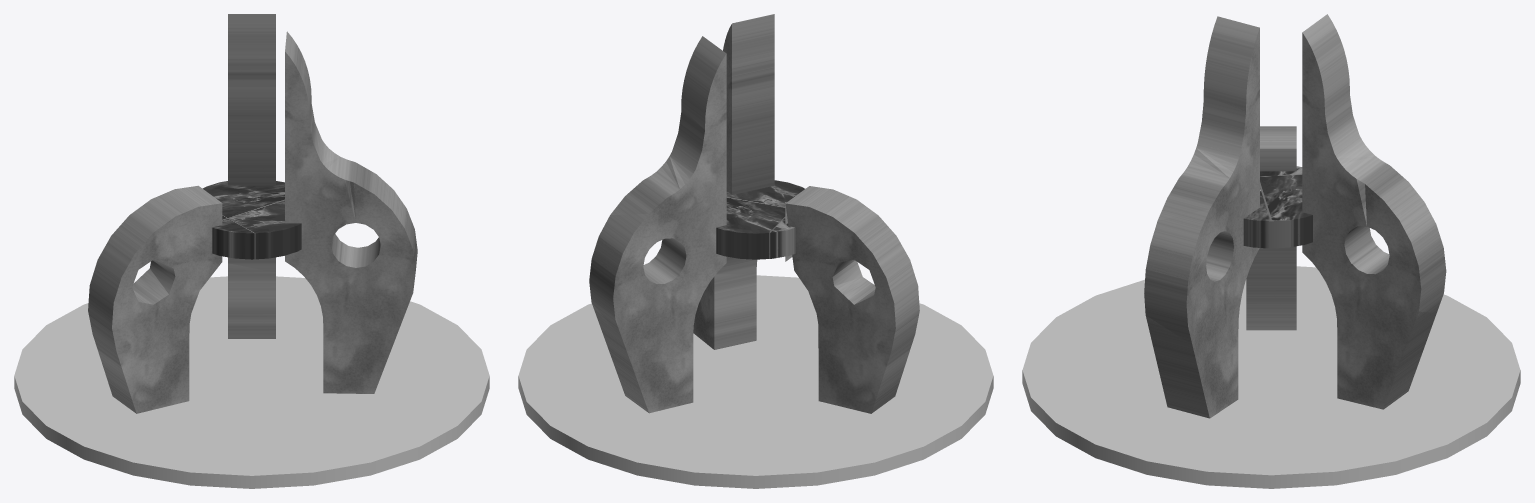
File: 광안리구조물lowpoly.fbx
The picture shows the model from 3 angles, left to right: view 1: azimuth 30°, elevation 25°; view 2: azimuth 150°, elevation 25°; view 3: azimuth 270°, elevation 25°; orthographic projection. The views are drawn at different scales.
Parts seen in each view (by area): view 1: Group_160714, Group_160721__1_, Group_160719, Group_160721, Group_160723; view 2: Group_160714, Group_160721, Group_160719, Group_160721__1_, Group_160723; view 3: Group_160714, Group_160721, Group_160721__1_, Group_160719, Group_160723.
Part boxes in pixels (left/top/right/bottom): Group_160714: left=14, top=276, right=489, bottom=488; Group_160721__1_: left=285, top=31, right=417, bottom=393; Group_160719: left=88, top=185, right=222, bottom=413; Group_160721: left=228, top=14, right=275, bottom=338; Group_160723: left=202, top=181, right=301, bottom=259; Group_160714: left=518, top=275, right=993, bottom=488; Group_160721: left=589, top=36, right=726, bottom=413; Group_160719: left=785, top=186, right=919, bottom=413; Group_160721__1_: left=693, top=14, right=774, bottom=349; Group_160723: left=716, top=180, right=804, bottom=259; Group_160714: left=1022, top=266, right=1520, bottom=488; Group_160721: left=1302, top=14, right=1446, bottom=409; Group_160721__1_: left=1144, top=16, right=1259, bottom=418; Group_160719: left=1246, top=126, right=1296, bottom=330; Group_160723: left=1243, top=166, right=1312, bottom=248.
Bounding box in the file's own units: 496 × 408 × 496.
